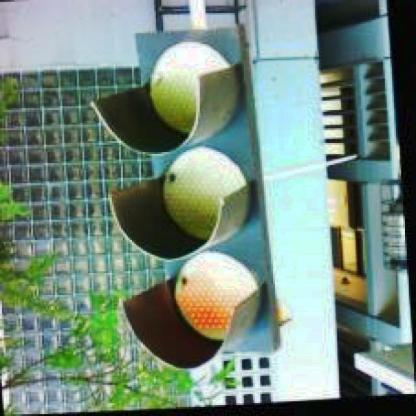Traffic Light -Red-: (104, 26, 285, 374)
